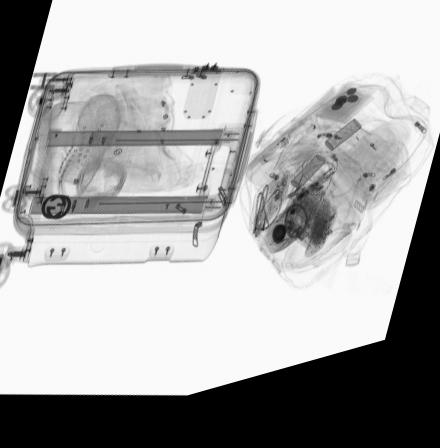Lighter: (256, 151, 290, 181)
